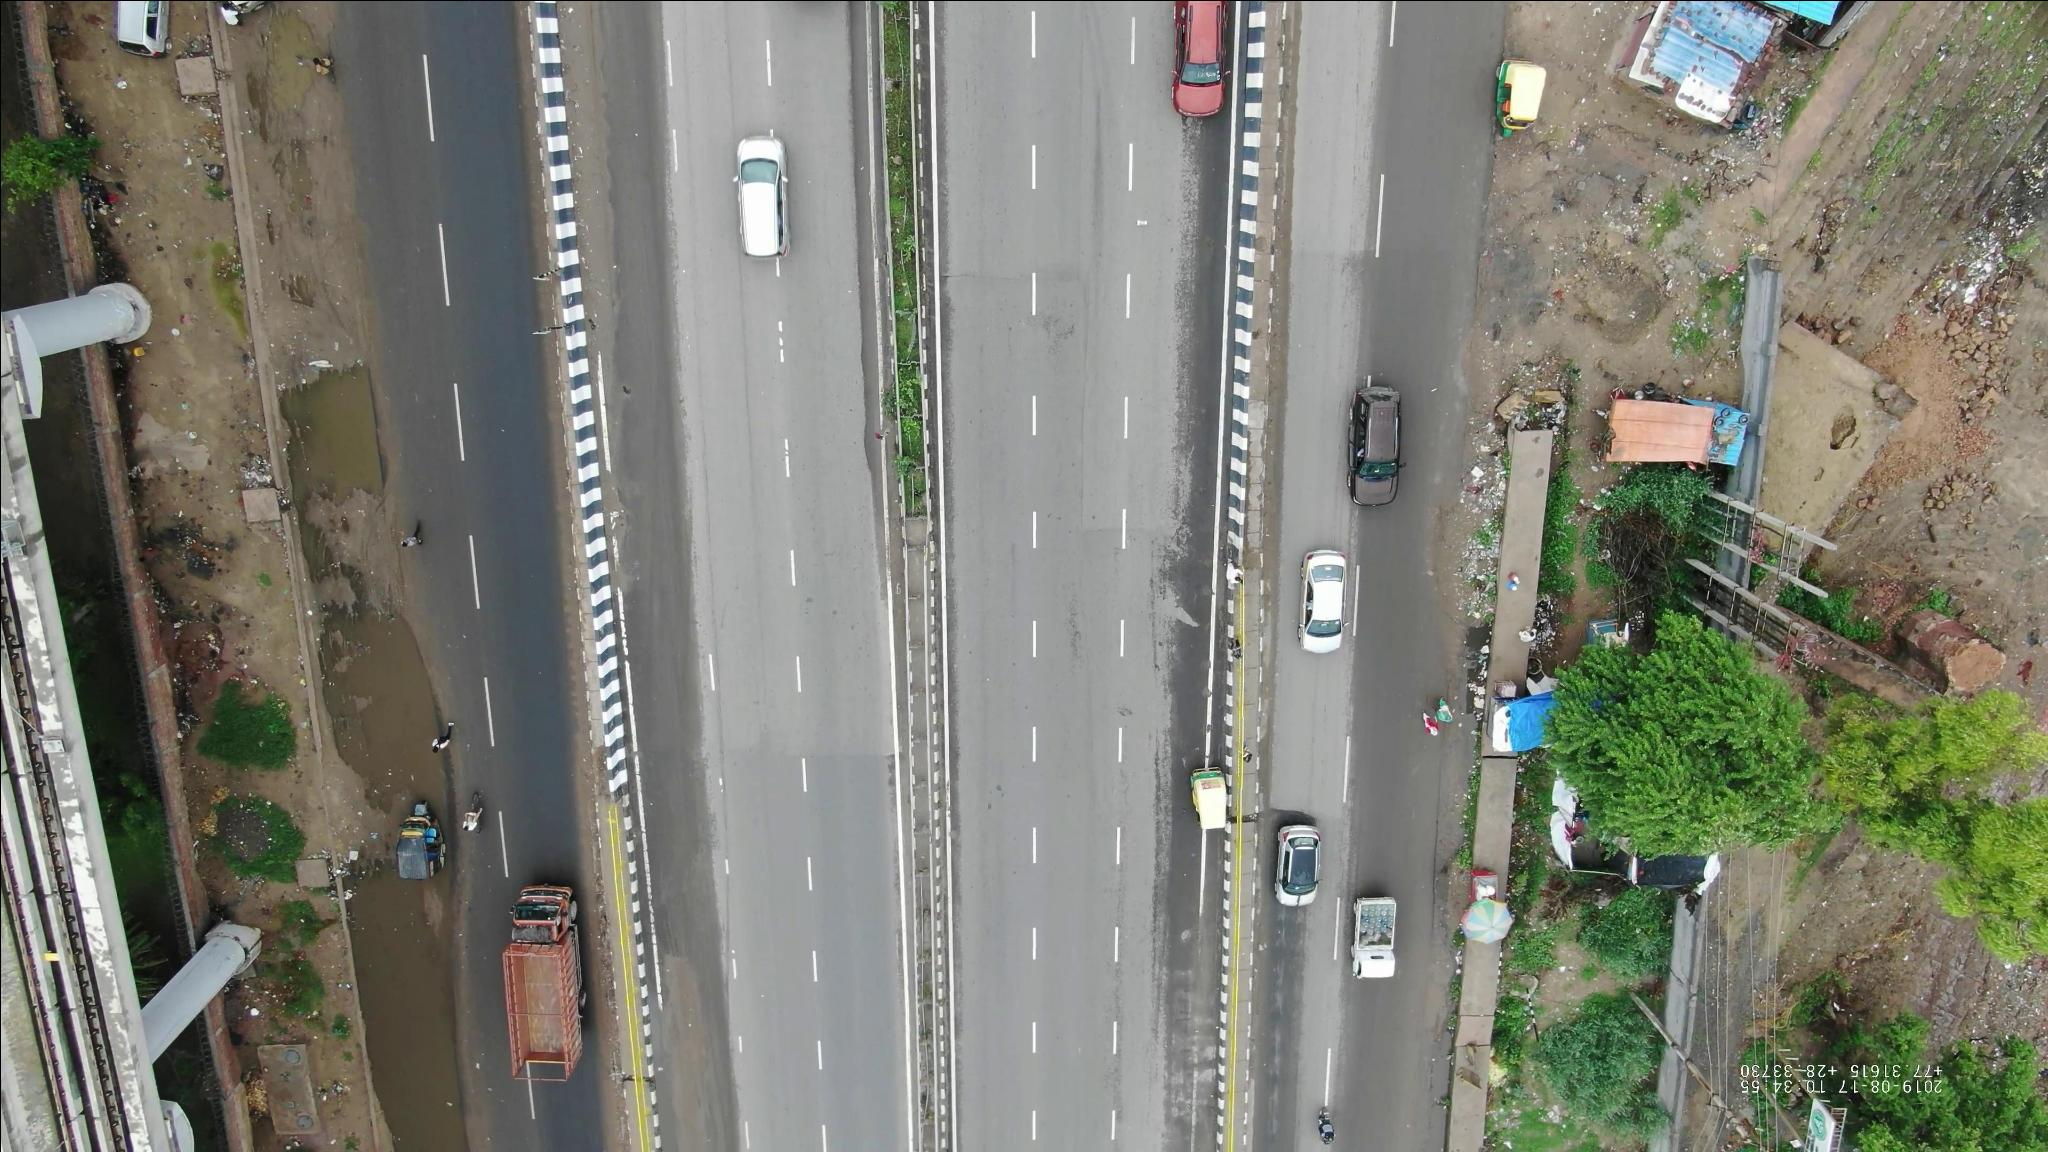Ravelling: (1061, 578, 1092, 665)
Waterlogging: (316, 606, 481, 1145), (266, 331, 409, 587)
